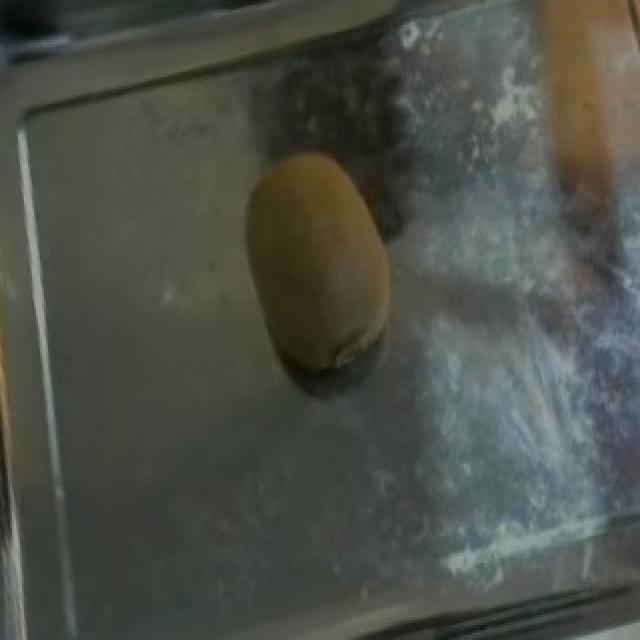Fruit: (210, 119, 436, 402), (492, 0, 640, 241)
